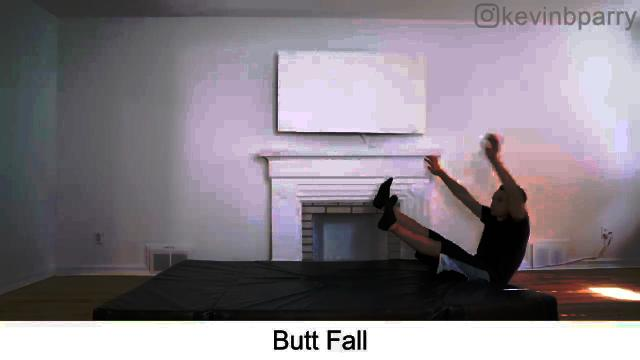jatuh: (368, 125, 536, 299)
